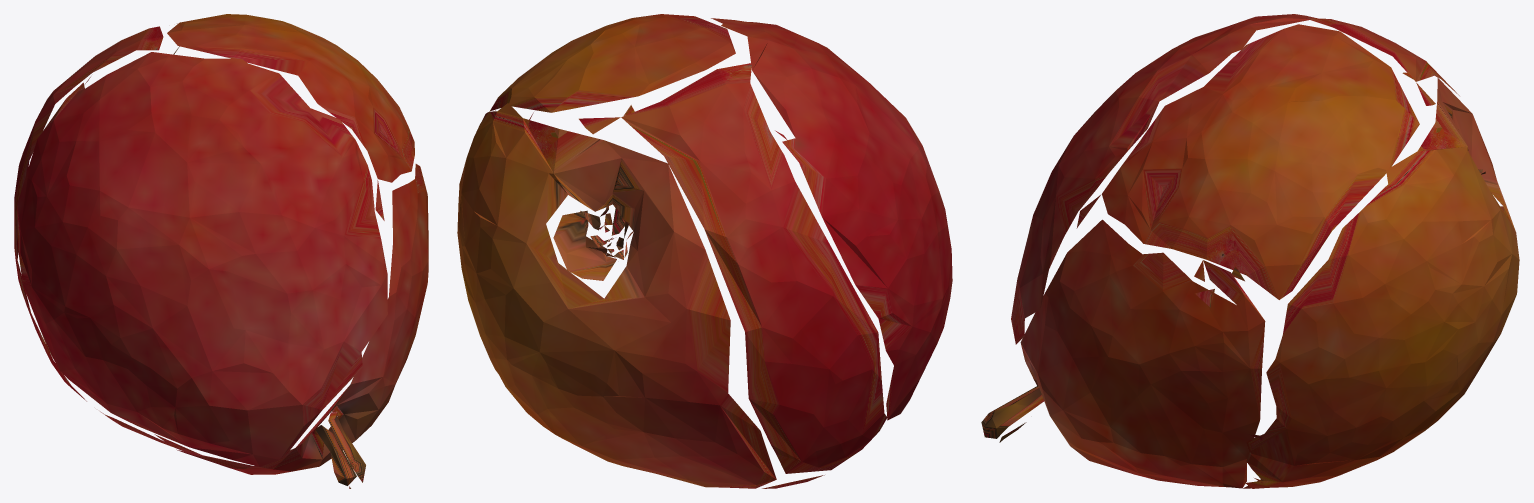
Rendered from food_produce_pear_e01.glb.
The picture shows the model from 3 angles, left to right: view 1: azimuth 30°, elevation 25°; view 2: azimuth 150°, elevation 25°; view 3: azimuth 270°, elevation 25°; orthographic projection. The views are drawn at different scales.
Visible parts, largest first — view 1: geometry_0; view 2: geometry_0; view 3: geometry_0.
Part boxes in pixels (x1,y1,x2,y2): geometry_0: [14, 14, 428, 488]; geometry_0: [457, 14, 952, 488]; geometry_0: [981, 14, 1519, 488].
Size of the model in its own units: 0.3693 by 0.3657 by 0.42.
Materials: 1 (1 with a texture image).
